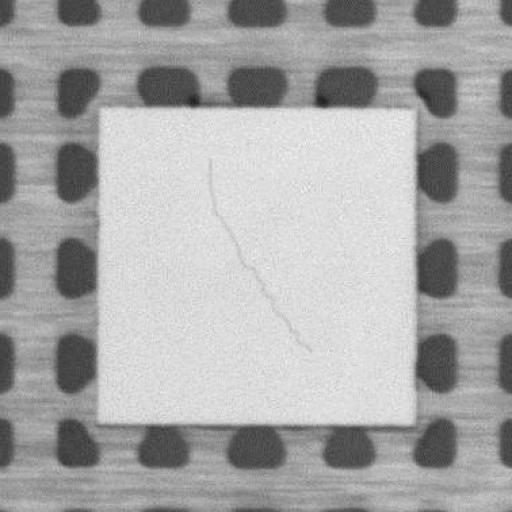DIE_CRACK: (207, 160, 310, 352)
